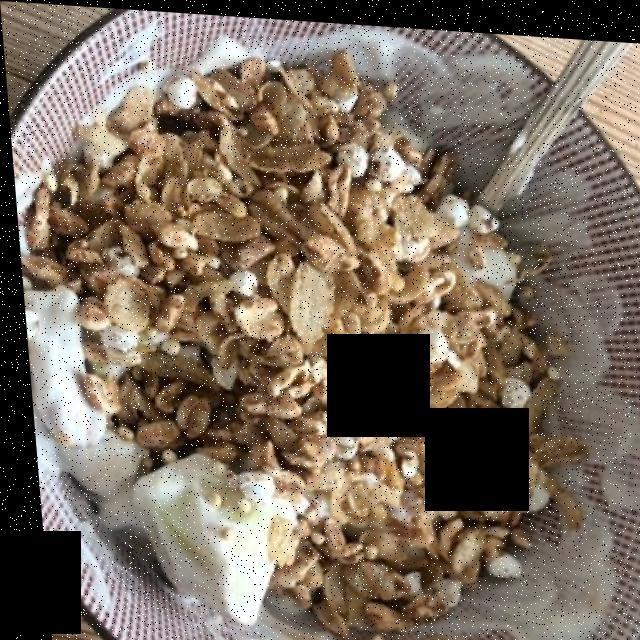apple: (131, 445, 285, 629)
